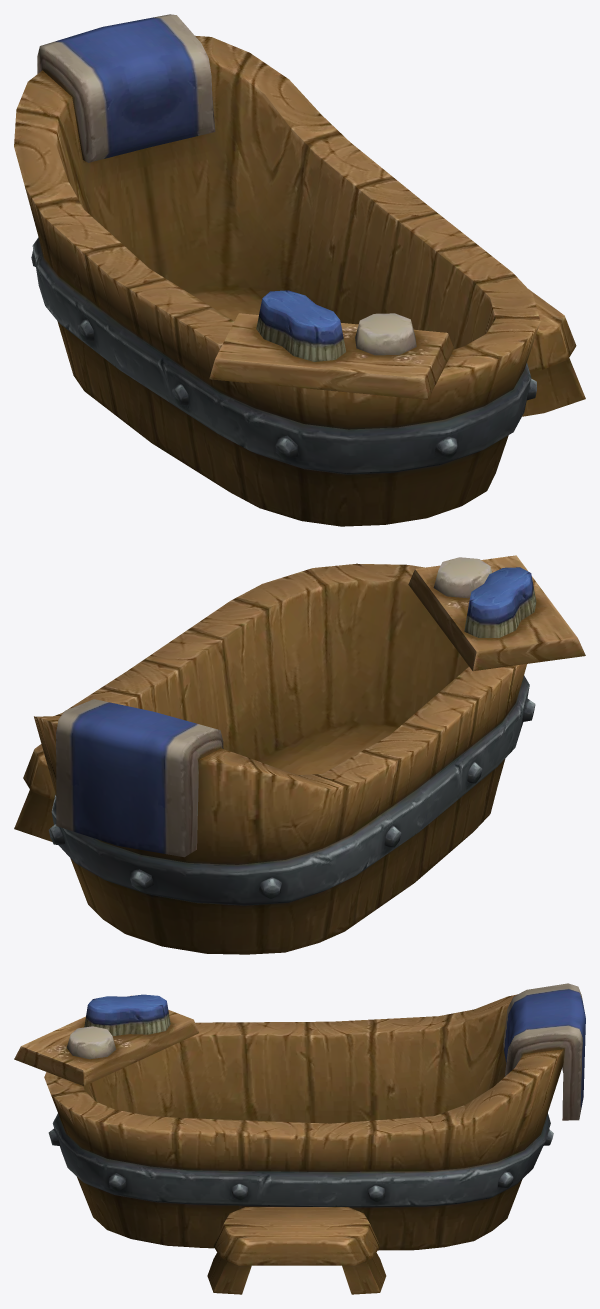
3 views of the same model, one above another, from view 1: azimuth 30°, elevation 25°; view 2: azimuth 150°, elevation 25°; view 3: azimuth 270°, elevation 25° (orthographic). The views are drawn at different scales.
Size of the model in its own units: 2 by 1.12 by 2.96.
1 material, 1 textured.
